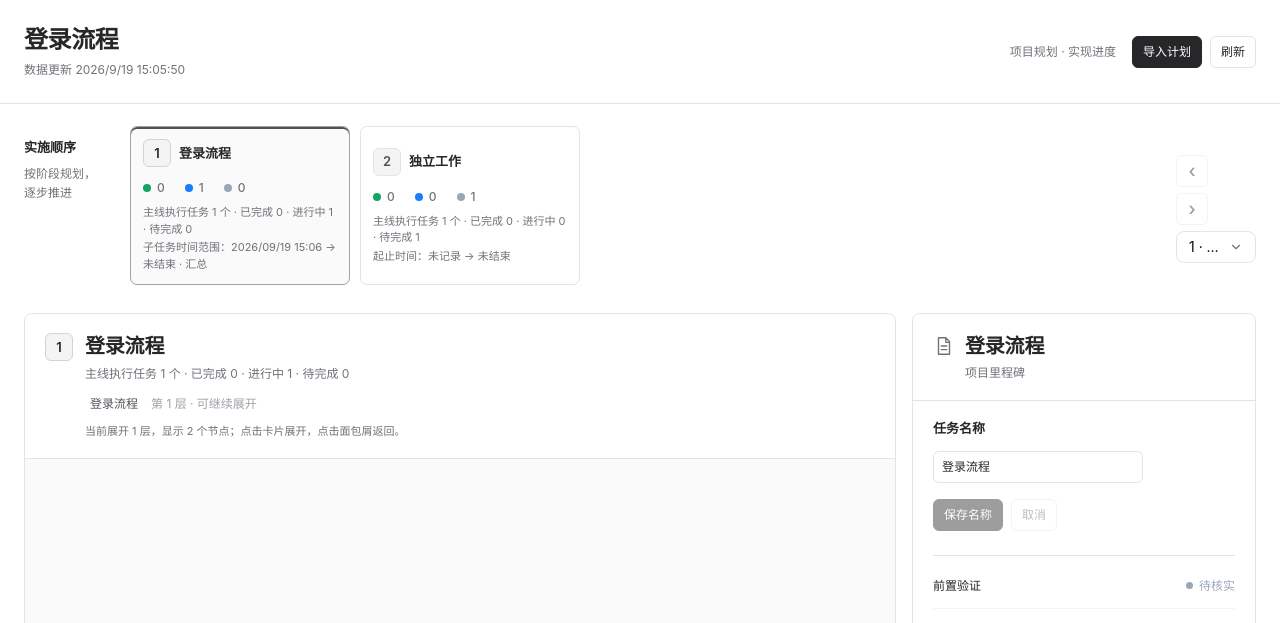
Test: TaskboardPage 项目全景 UI › navigates independent roots alongside phases without promoting nested phases
This screenshot has width=1280, height=623.
Expected: the option "嵌套阶段" is not shown
Select "2 · 独立工作 (0/1)" in the dropdown named "快速跳转到阶段": (1216, 247) [1176, 231, 1256, 263]
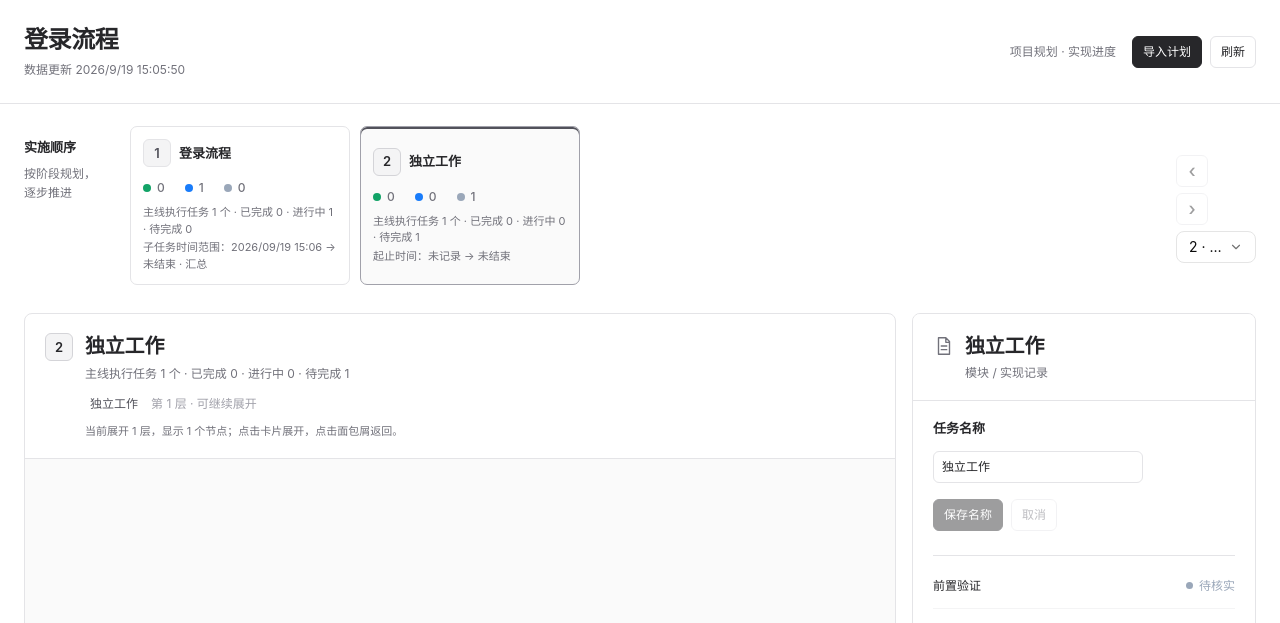
Select "1 · 登录流程 (0/1)" in the dropdown named "快速跳转到阶段": (1216, 247) [1176, 231, 1256, 263]
(page scrolled)
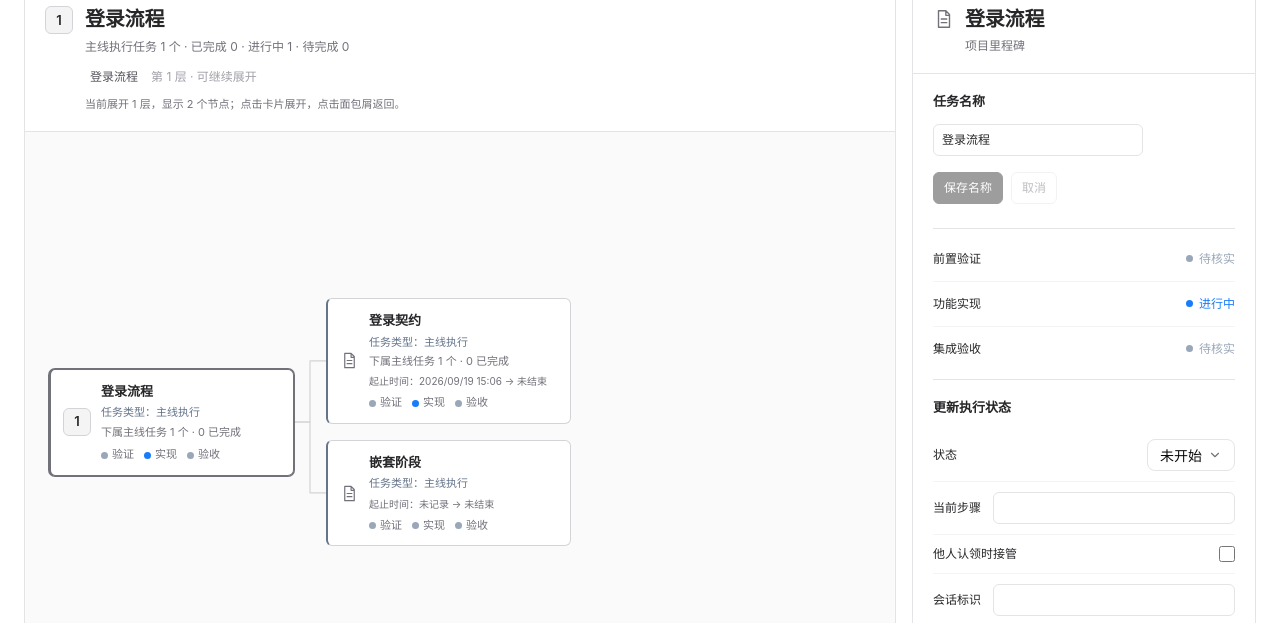
Expected: the button "登录契约" is shown, [326, 298, 571, 424]
